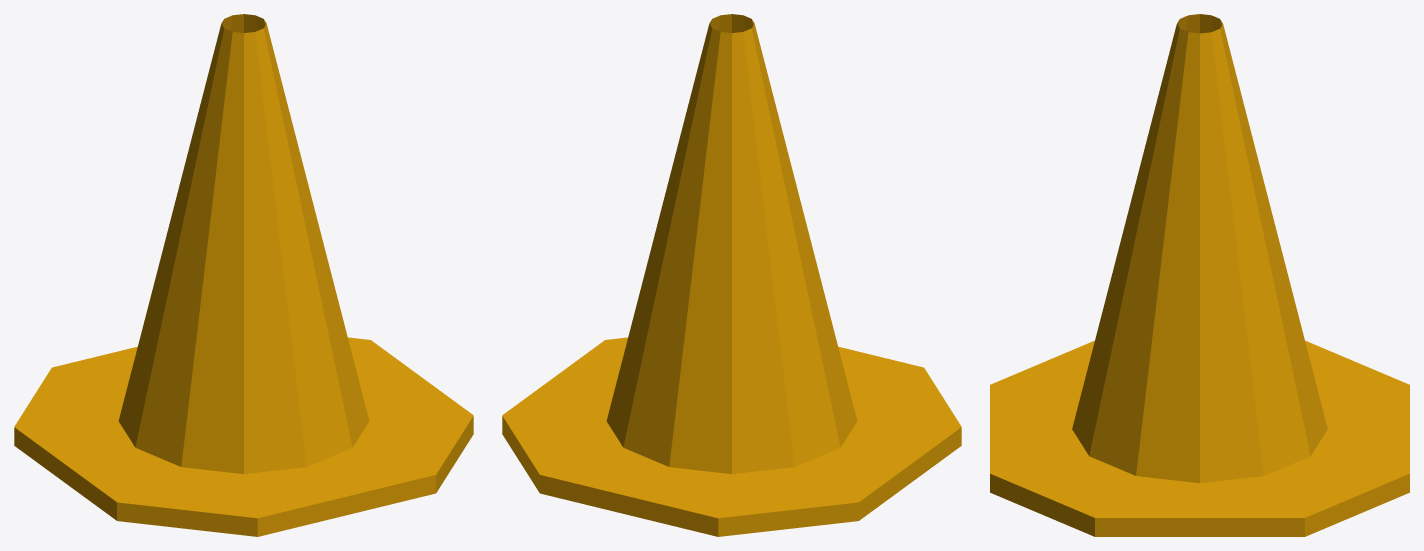
Rendered from trafficcone.fbx.
3 renders of one model, left to right at view 1: azimuth 30°, elevation 25°; view 2: azimuth 150°, elevation 25°; view 3: azimuth 270°, elevation 25°, orthographic.
Parts seen in each view (by area): view 1: pCone1, pCube1; view 2: pCone1, pCube1; view 3: pCone1, pCube1.
Part boxes in pixels (<box>): pCone1: <box>118,14,369,474</box>; pCube1: <box>14,337,473,536</box>; pCone1: <box>606,14,857,474</box>; pCube1: <box>502,337,961,536</box>; pCone1: <box>1072,14,1327,483</box>; pCube1: <box>990,340,1409,536</box>.
Bounding box in the file's own units: 2.39 × 2.66 × 2.39.
